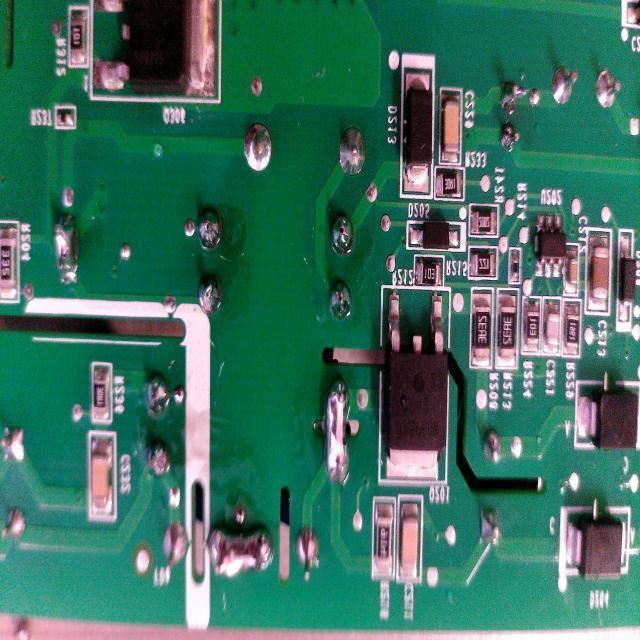Soldering bridge: (202, 514, 274, 580), (317, 370, 354, 498), (48, 206, 82, 294)
